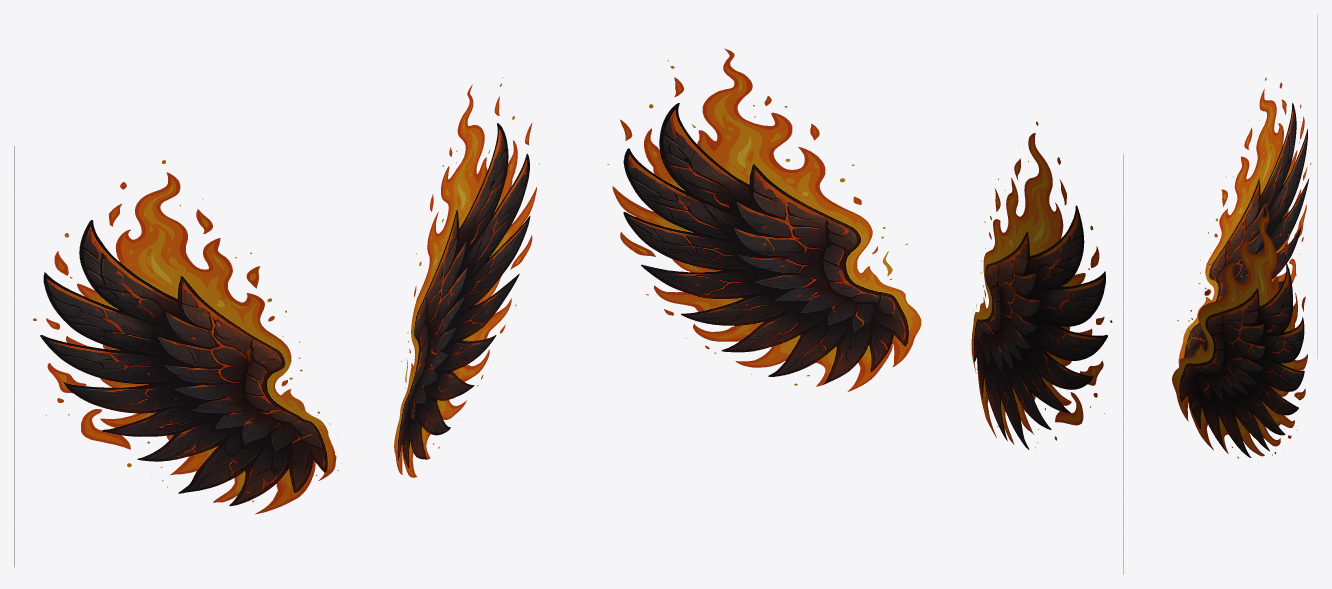
Rendered from canh10.fbx.
3 views of the same model, side by side, from view 1: azimuth 30°, elevation 25°; view 2: azimuth 150°, elevation 25°; view 3: azimuth 270°, elevation 25° (orthographic). The views are drawn at different scales.
Visible parts, largest first — view 1: canh10; view 2: canh10; view 3: canh10.
Part boxes in pixels (bbox=[...]): canh10: bbox=[14, 77, 539, 567]; canh10: bbox=[607, 48, 1123, 574]; canh10: bbox=[1172, 14, 1317, 458].
Bounding box in the file's own units: 1.82 × 1.35 × 0.5873.
